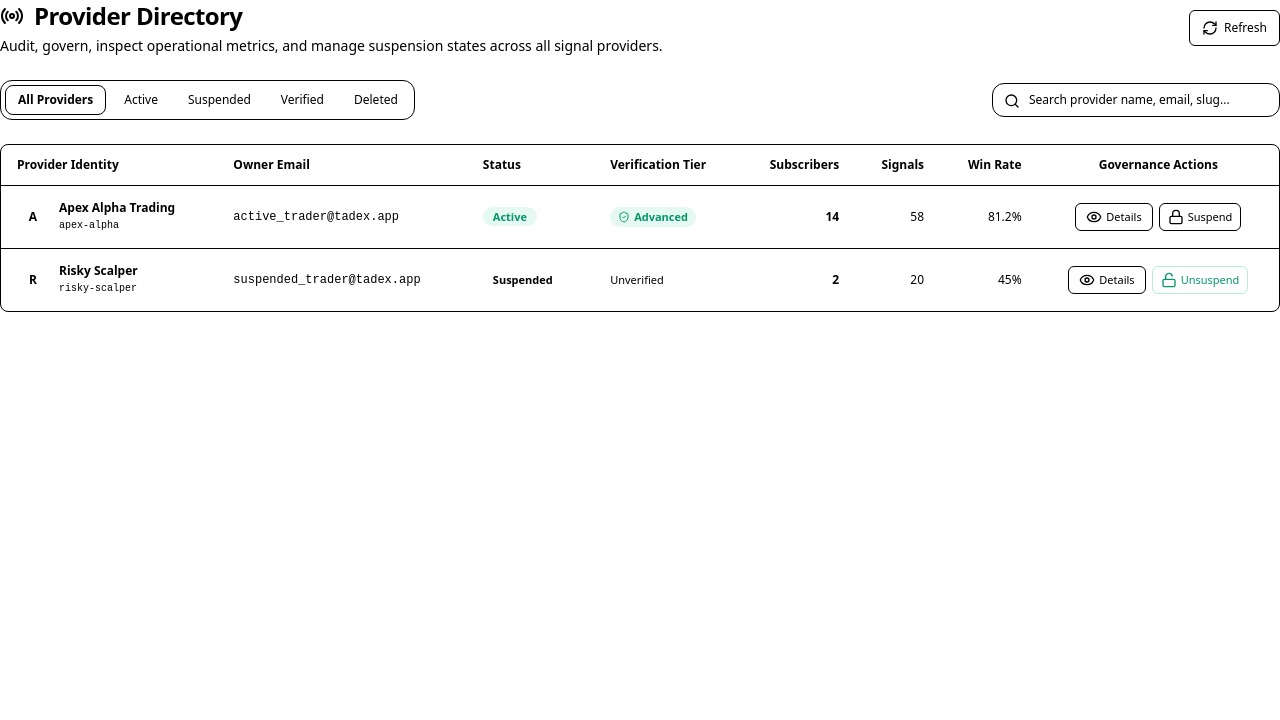
AdminProviderTable Component › opens provider detail modal with admin-exclusive metadata
Expected: the text "Risky Scalper" is shown, [59,263,138,279]
Click the button "Details" in the row of "Risky Scalper": click(1107, 280) [1068,266,1146,294]
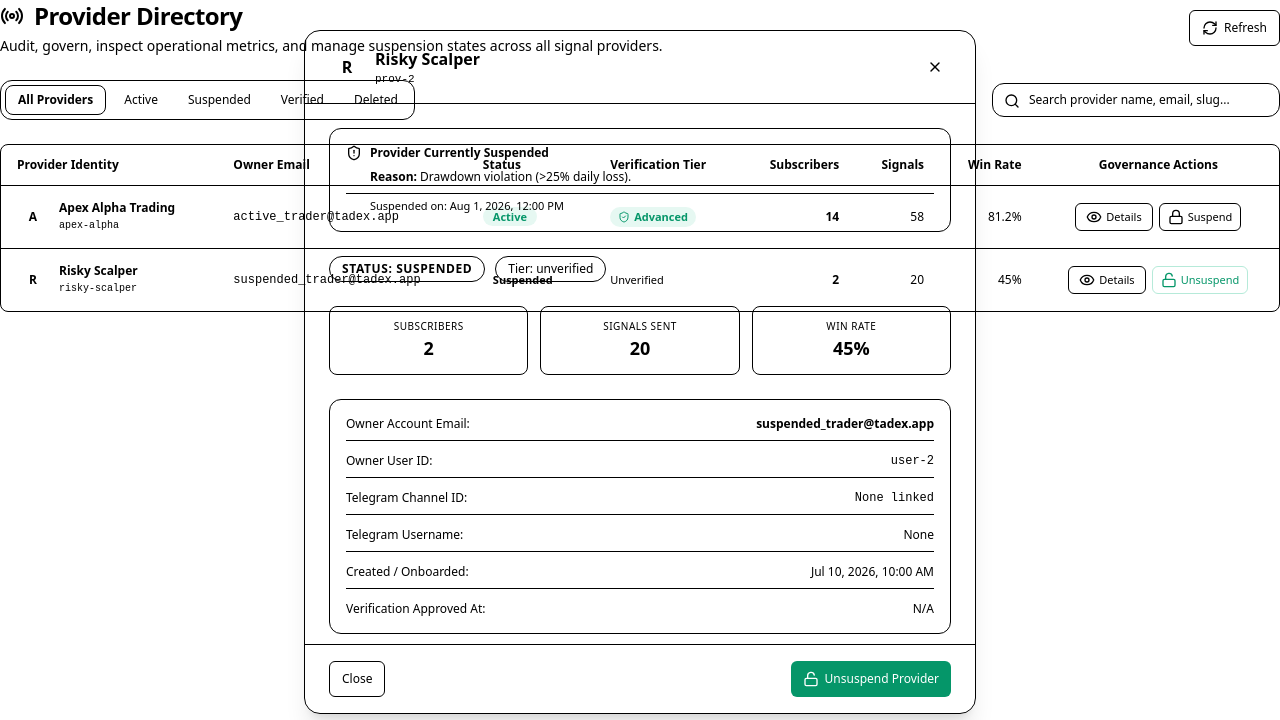
Now the text "Provider Currently Suspended" is shown, box [370,145,549,161]
Now the text "Reason: Drawdown violation (>25% daily loss)." is shown, box [370,168,631,185]
Now the text "suspended_trader@tadex.app" is shown, box [756,416,934,432]
